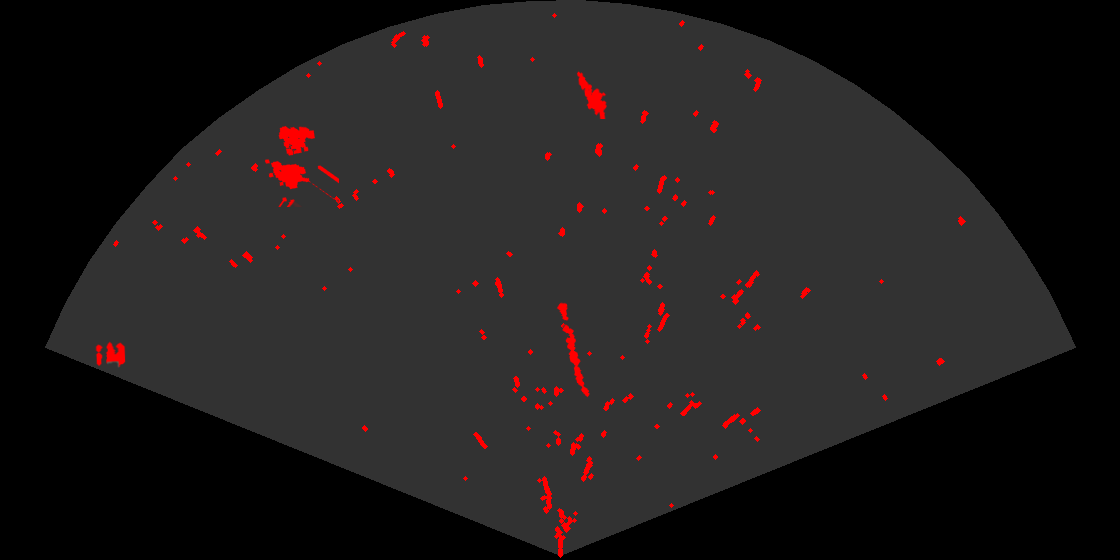ball: (94, 340, 127, 369)
cage: (263, 124, 339, 207)
chain: (555, 300, 591, 399)
frogman: (575, 69, 608, 119)
